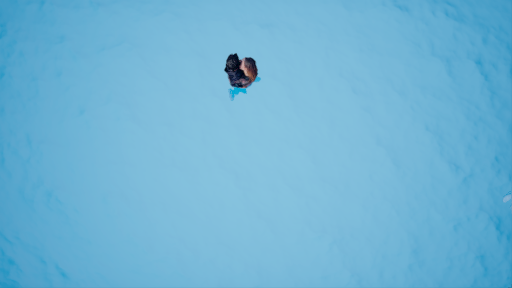person: (222, 52, 267, 98)
